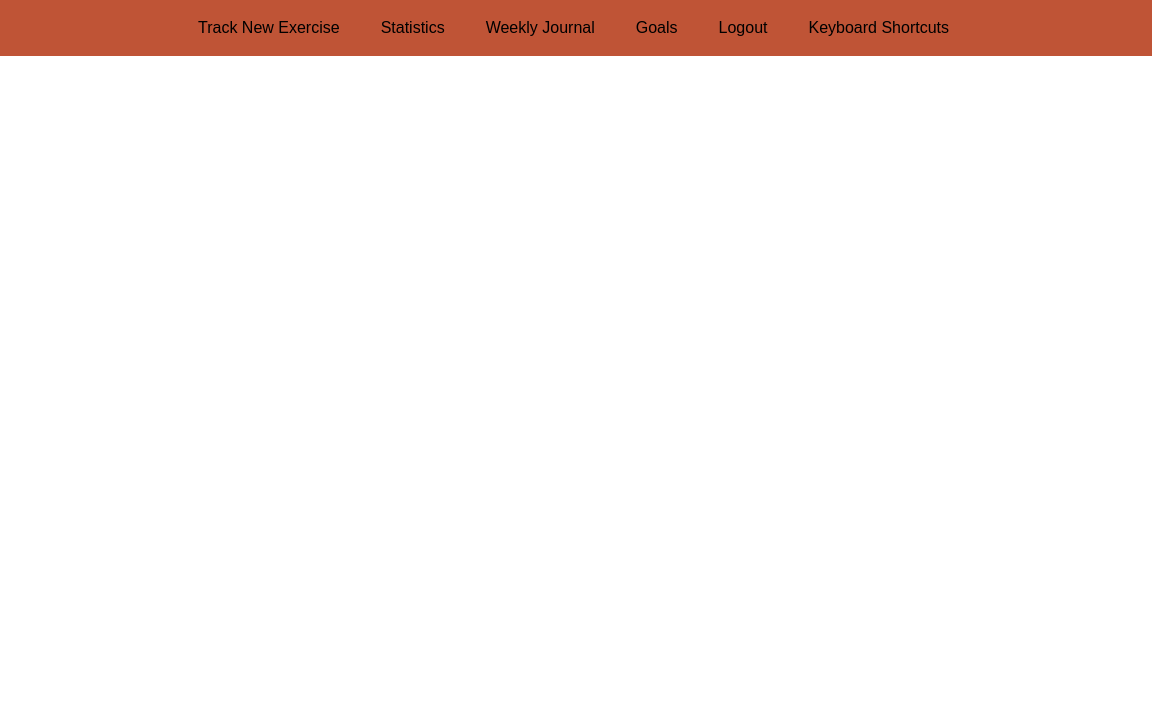
Test: NavbarComponent › shows the ShortcutModal when the Keyboard Shortcuts link is clicked
The width and height of the screenshot is (1152, 720).
Click the button "Keyboard Shortcuts" at (879, 28), box [808,19,949,36]
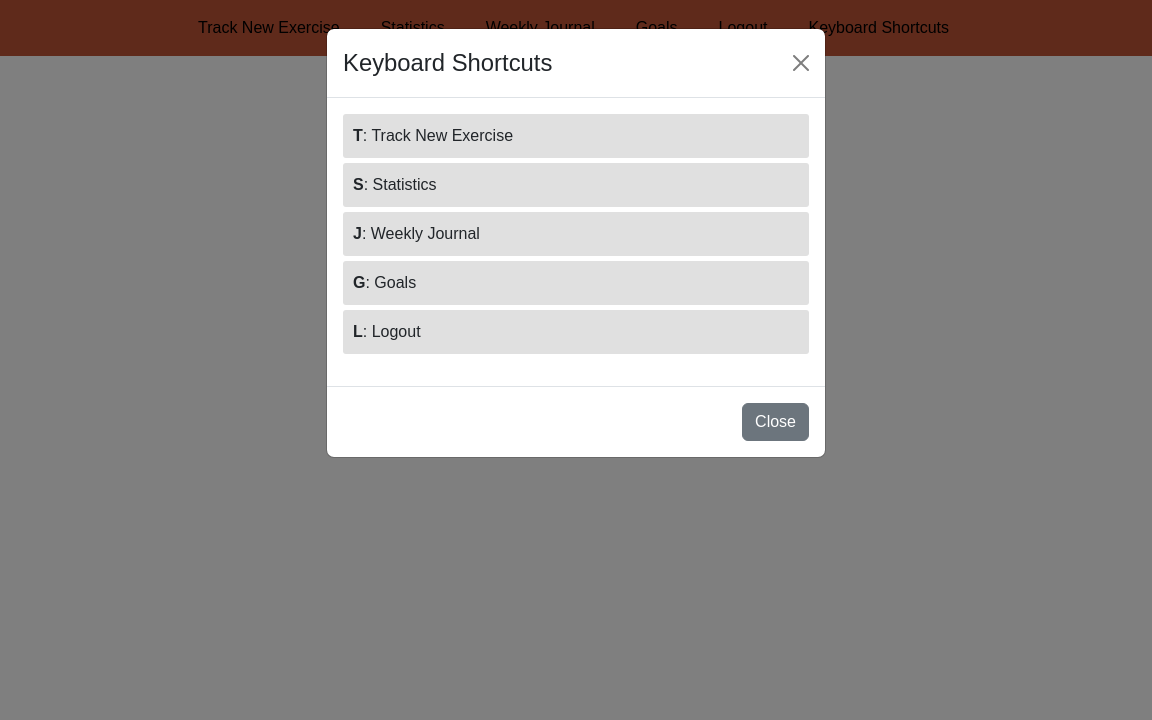
Result: the dialog is shown at [326,28,826,458]
